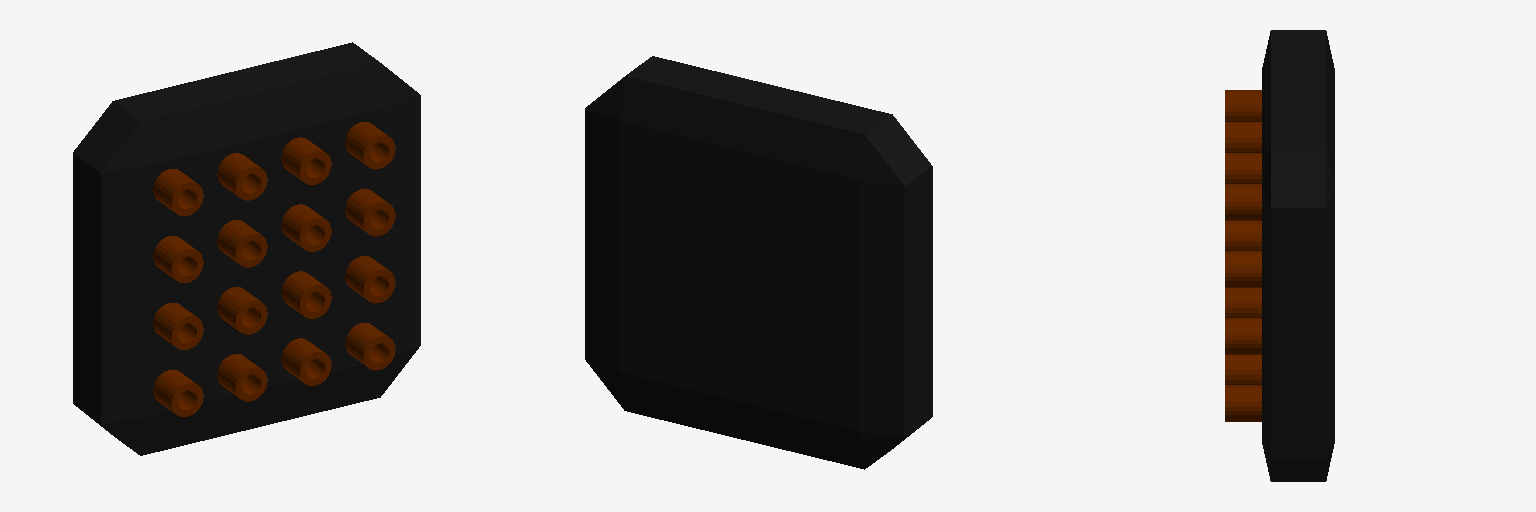
File: AFM_PatchBoard.obj
3 views of the same model, side by side, from view 1: azimuth 30°, elevation 25°; view 2: azimuth 150°, elevation 25°; view 3: azimuth 270°, elevation 25° (orthographic).
Parts seen in each view (by area): view 1: mergedBlocks; view 2: mergedBlocks; view 3: mergedBlocks.
Boxes of the visible parts, <box> form: mergedBlocks: <box>73,42,420,455</box>; mergedBlocks: <box>585,56,932,469</box>; mergedBlocks: <box>1225,30,1334,481</box>.
Size of the model in its own units: 1 by 1 by 0.3.